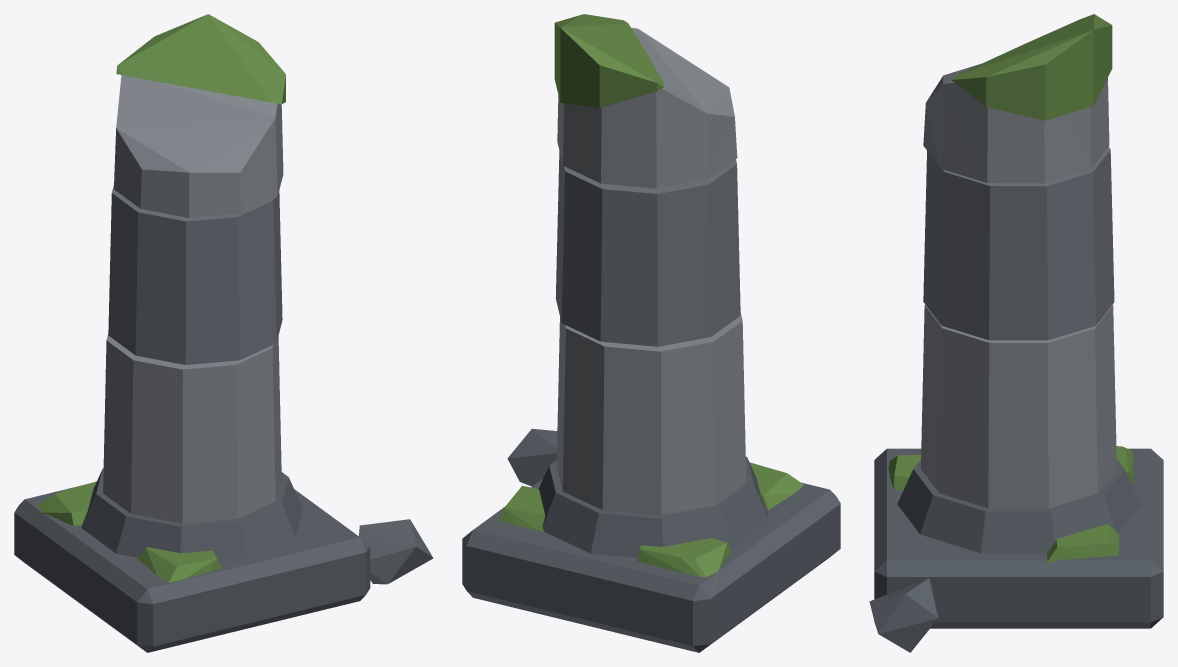
Rendered from Pillar.fbx.
3 renders of one model, left to right at view 1: azimuth 30°, elevation 25°; view 2: azimuth 150°, elevation 25°; view 3: azimuth 270°, elevation 25°, orthographic. The views are drawn at different scales.
Parts seen in each view (by area): view 1: Shaft, Plinth, Shaft2, Moss; view 2: Shaft, Plinth, Shaft2, Moss; view 3: Shaft, Plinth, Shaft2, Moss.
Boxes of the visible parts, <box> form: Shaft: <box>103,75,283,523</box>; Plinth: <box>14,468,433,652</box>; Shaft2: <box>108,185,282,364</box>; Moss: <box>25,14,285,582</box>; Shaft: <box>556,27,746,515</box>; Plinth: <box>462,428,840,652</box>; Shaft2: <box>555,151,740,346</box>; Moss: <box>499,14,803,587</box>; Shaft: <box>921,64,1116,508</box>; Plinth: <box>869,448,1163,652</box>; Shaft2: <box>923,147,1114,340</box>; Moss: <box>888,14,1133,563</box>.
Size of the model in its own units: 2.88 by 5 by 2.34.
